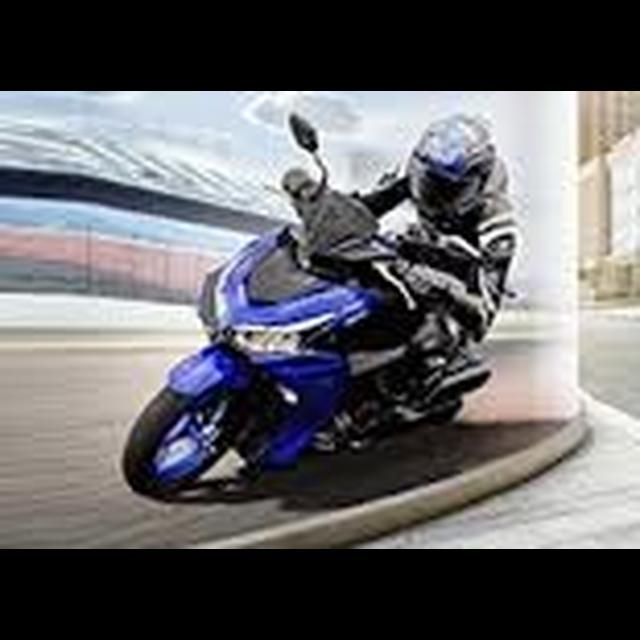motorcycle: (119, 109, 496, 504)
